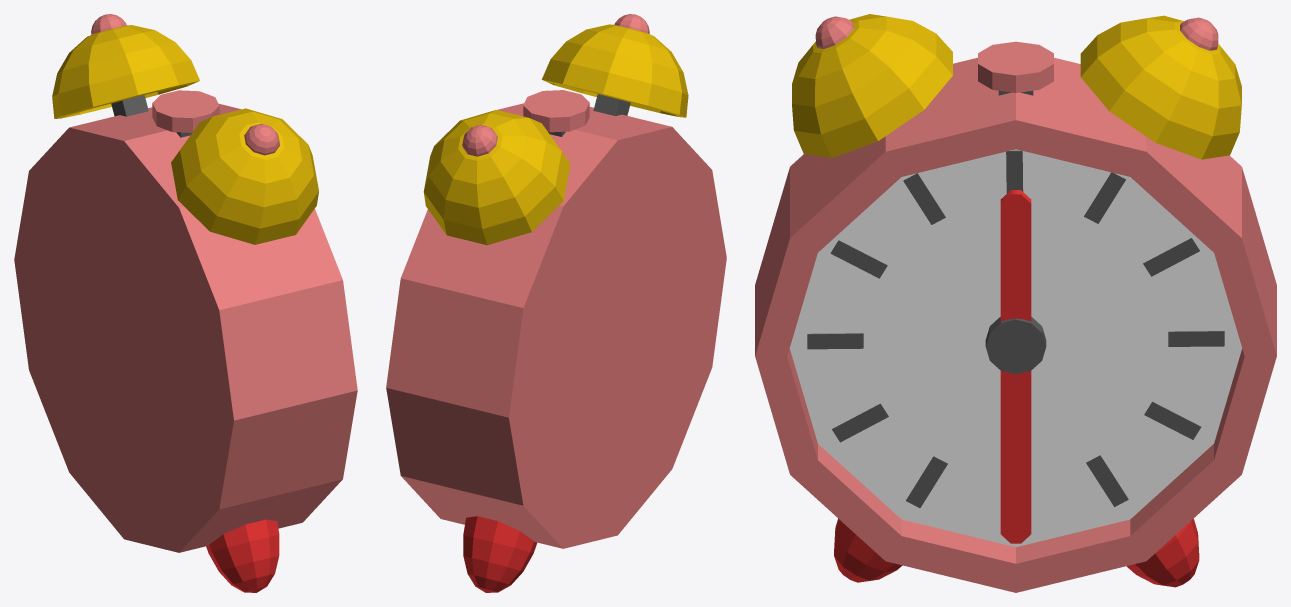
Rendered from clock_test.fbx.
The picture shows the model from 3 angles, left to right: view 1: azimuth 30°, elevation 25°; view 2: azimuth 150°, elevation 25°; view 3: azimuth 270°, elevation 25°; orthographic projection. The views are drawn at different scales.
Parts seen in each view (by area): view 1: body, bell1, bell, pSphere5, pCylinder3, pSphere3, pCube1, pSphere4; view 2: body, bell, bell1, pSphere6, pCylinder3, pSphere4, pCube2; view 3: body, bell, bell1, hour_lines, minute_arm, hour_arm, pCylinder3, pCylinder2, pSphere6, pSphere5, pSphere4, pSphere3.
Boxes of the visible parts, x1,y1,x2,y2 form: body: (14, 104, 357, 552); bell1: (171, 108, 318, 244); bell: (52, 25, 199, 118); pSphere5: (206, 519, 279, 592); pCylinder3: (152, 90, 219, 132); pSphere3: (244, 123, 279, 155); pCube1: (111, 95, 148, 116); pSphere4: (91, 14, 126, 34); body: (386, 103, 726, 548); bell: (423, 110, 570, 245); bell1: (541, 24, 688, 117); pSphere6: (463, 516, 536, 592); pCylinder3: (523, 90, 589, 132); pSphere4: (462, 124, 497, 156); pCube2: (593, 94, 630, 115); body: (755, 57, 1276, 592); bell: (1080, 15, 1241, 159); bell1: (792, 14, 952, 157); hour_lines: (807, 150, 1224, 507); minute_arm: (1000, 371, 1031, 543); hour_arm: (1000, 190, 1031, 321); pCylinder3: (978, 41, 1053, 92); pCylinder2: (985, 317, 1046, 374); pSphere6: (1126, 518, 1199, 587); pSphere5: (834, 518, 902, 582); pSphere4: (1180, 17, 1218, 50); pSphere3: (815, 16, 853, 48).
Size of the model in its own units: 35.03 by 121 by 101.
